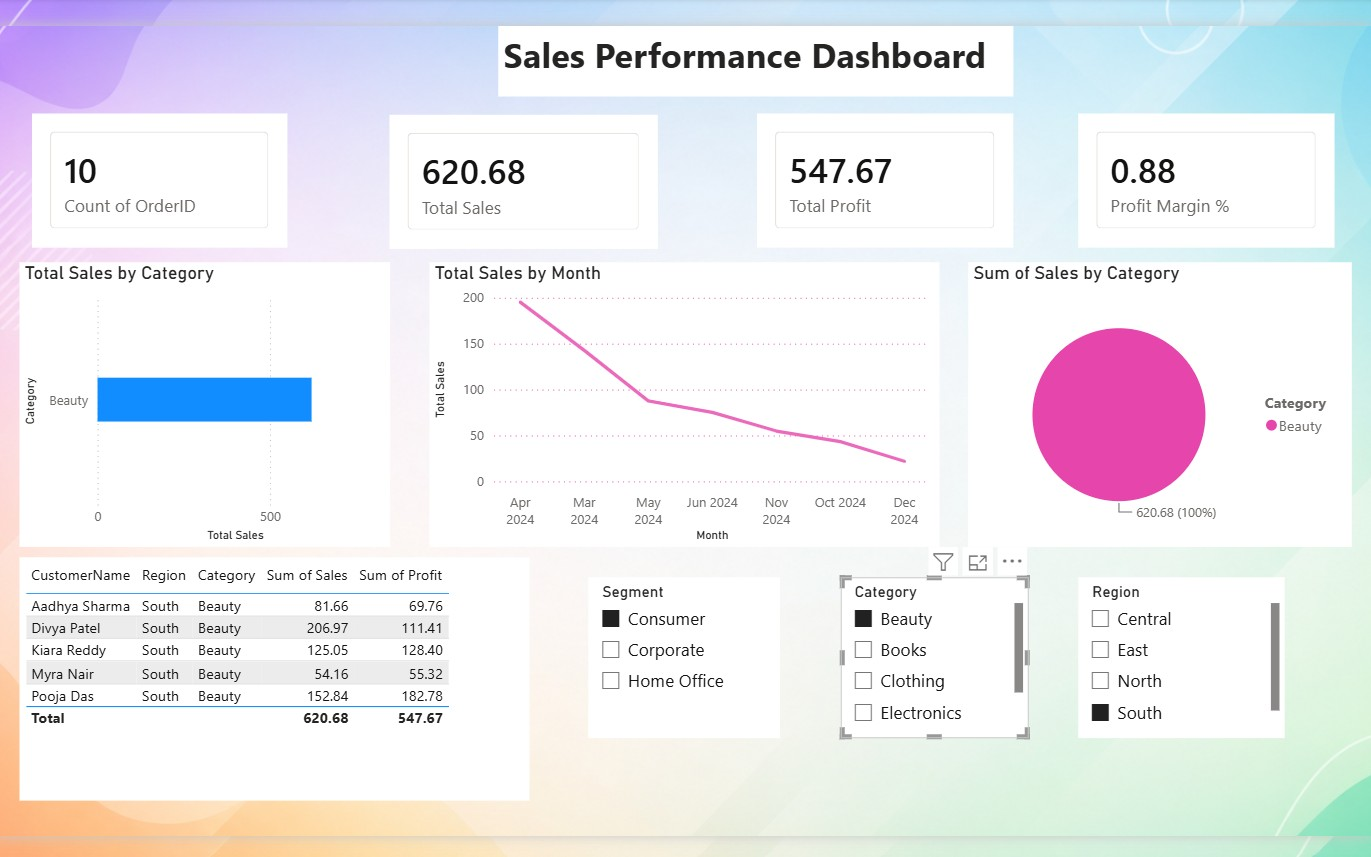

This screenshot's page, from the dashboard's own definition file:
{"tool":"powerbi","page":{"name":"Page 1","canvas":[1280,754],"ordinal":0},"visuals":[{"type":"cardVisual","fields":{"Data":["Orders.Total Sales"]},"box":[365,82.3,249.7,124.9],"z":0},{"type":"clusteredBarChart","fields":{"Category":["Orders.Category"],"Y":["Orders.Total Sales"]},"box":[20.6,219.6,344.4,264.8],"z":1000},{"type":"lineChart","fields":{"Category":["Orders.Month"],"Y":["Orders.Total Sales"]},"box":[402.1,219.6,474.8,264.8],"z":2000},{"type":"cardVisual","fields":{"Data":["Orders.Total Profit"]},"box":[706.7,81,238.8,124.9],"z":3000},{"type":"cardVisual","fields":{"Data":["Orders.Profit Margin %"]},"box":[1005.8,81,238.8,124.9],"z":4000},{"type":"pieChart","fields":{"Category":["Orders.Category"],"Y":["Sum(Orders.Sales)"]},"box":[902.9,219.6,356.8,264.8],"z":5000},{"type":"slicer","fields":{"Values":["Customers.Region"]},"box":[1016.3,512.8,191.9,150],"z":6000},{"type":"slicer","fields":{"Values":["Orders.Category"]},"box":[784.9,513.2,174.3,149.6],"z":7000},{"type":"slicer","fields":{"Values":["Customers.Segment"]},"box":[550.3,513.2,178.4,149.6],"z":8000},{"type":"tableEx","fields":{"Values":["Customers.CustomerName","Customers.Region","Orders.Category","Sum(Orders.Sales)","Sum(Orders.Profit)"]},"box":[20.6,494,474.8,226.4],"z":9000},{"type":"textbox","box":[466.6,0,478.9,65.9],"z":10000},{"type":"cardVisual","fields":{"Data":["CountNonNull(Orders.OrderID)"]},"box":[32.9,81,237.4,124.9],"z":11000}]}

Visuals, with their boxes on the page's 1280x754 design canvas (x1, y1, x2, y2). These are canvas units, not pixel positions in the 1371x857 screenshot, which may show the page scaled, cropped or inside an application window:
cardVisual - Orders.Total Sales: bbox=[365, 82, 615, 207]
clusteredBarChart - Orders.Category x Orders.Total Sales: bbox=[21, 220, 365, 484]
lineChart - Orders.Month x Orders.Total Sales: bbox=[402, 220, 877, 484]
cardVisual - Orders.Total Profit: bbox=[707, 81, 946, 206]
cardVisual - Orders.Profit Margin %: bbox=[1006, 81, 1245, 206]
pieChart - Orders.Category x Sum(Orders.Sales): bbox=[903, 220, 1260, 484]
slicer - Customers.Region: bbox=[1016, 513, 1208, 663]
slicer - Orders.Category: bbox=[785, 513, 959, 663]
slicer - Customers.Segment: bbox=[550, 513, 729, 663]
tableEx - Customers.CustomerName x Customers.Region: bbox=[21, 494, 495, 720]
textbox: bbox=[467, 0, 946, 66]
cardVisual - CountNonNull(Orders.OrderID): bbox=[33, 81, 270, 206]
